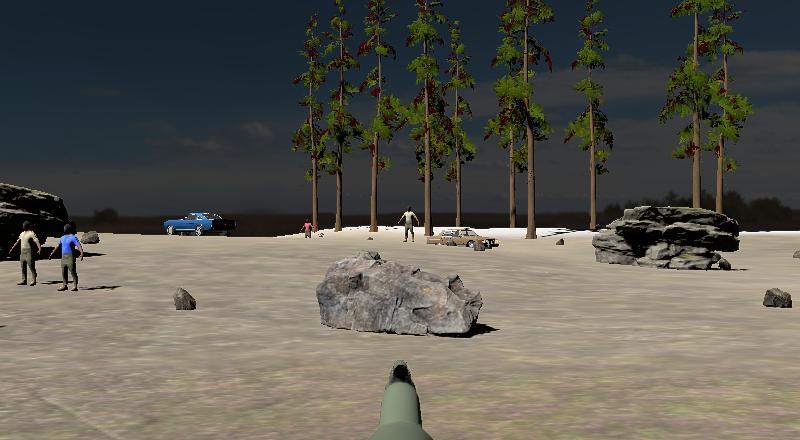Human: (48, 221, 87, 293), (8, 217, 43, 289), (299, 216, 314, 242)
car: (161, 207, 239, 239), (424, 224, 502, 254)
